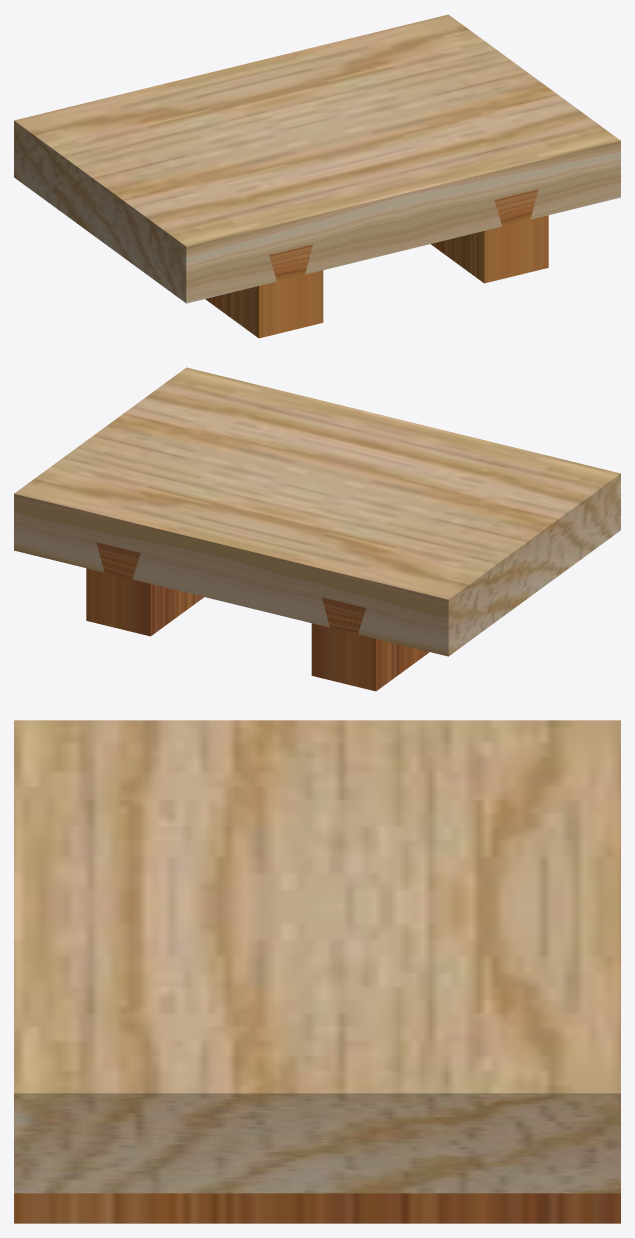
File: sushigeta.fbx
3 views of the same model, one above another, from view 1: azimuth 30°, elevation 25°; view 2: azimuth 150°, elevation 25°; view 3: azimuth 270°, elevation 25° (orthographic). The views are drawn at different scales.
Parts seen in each view (by area): view 1: geta; view 2: geta; view 3: geta.
Part boxes in pixels (box(x1,y1,x2,y2)): geta: box(14, 14, 620, 338); geta: box(14, 367, 620, 691); geta: box(14, 720, 620, 1223).
Size of the model in its own units: 1600 by 385 by 1100.
